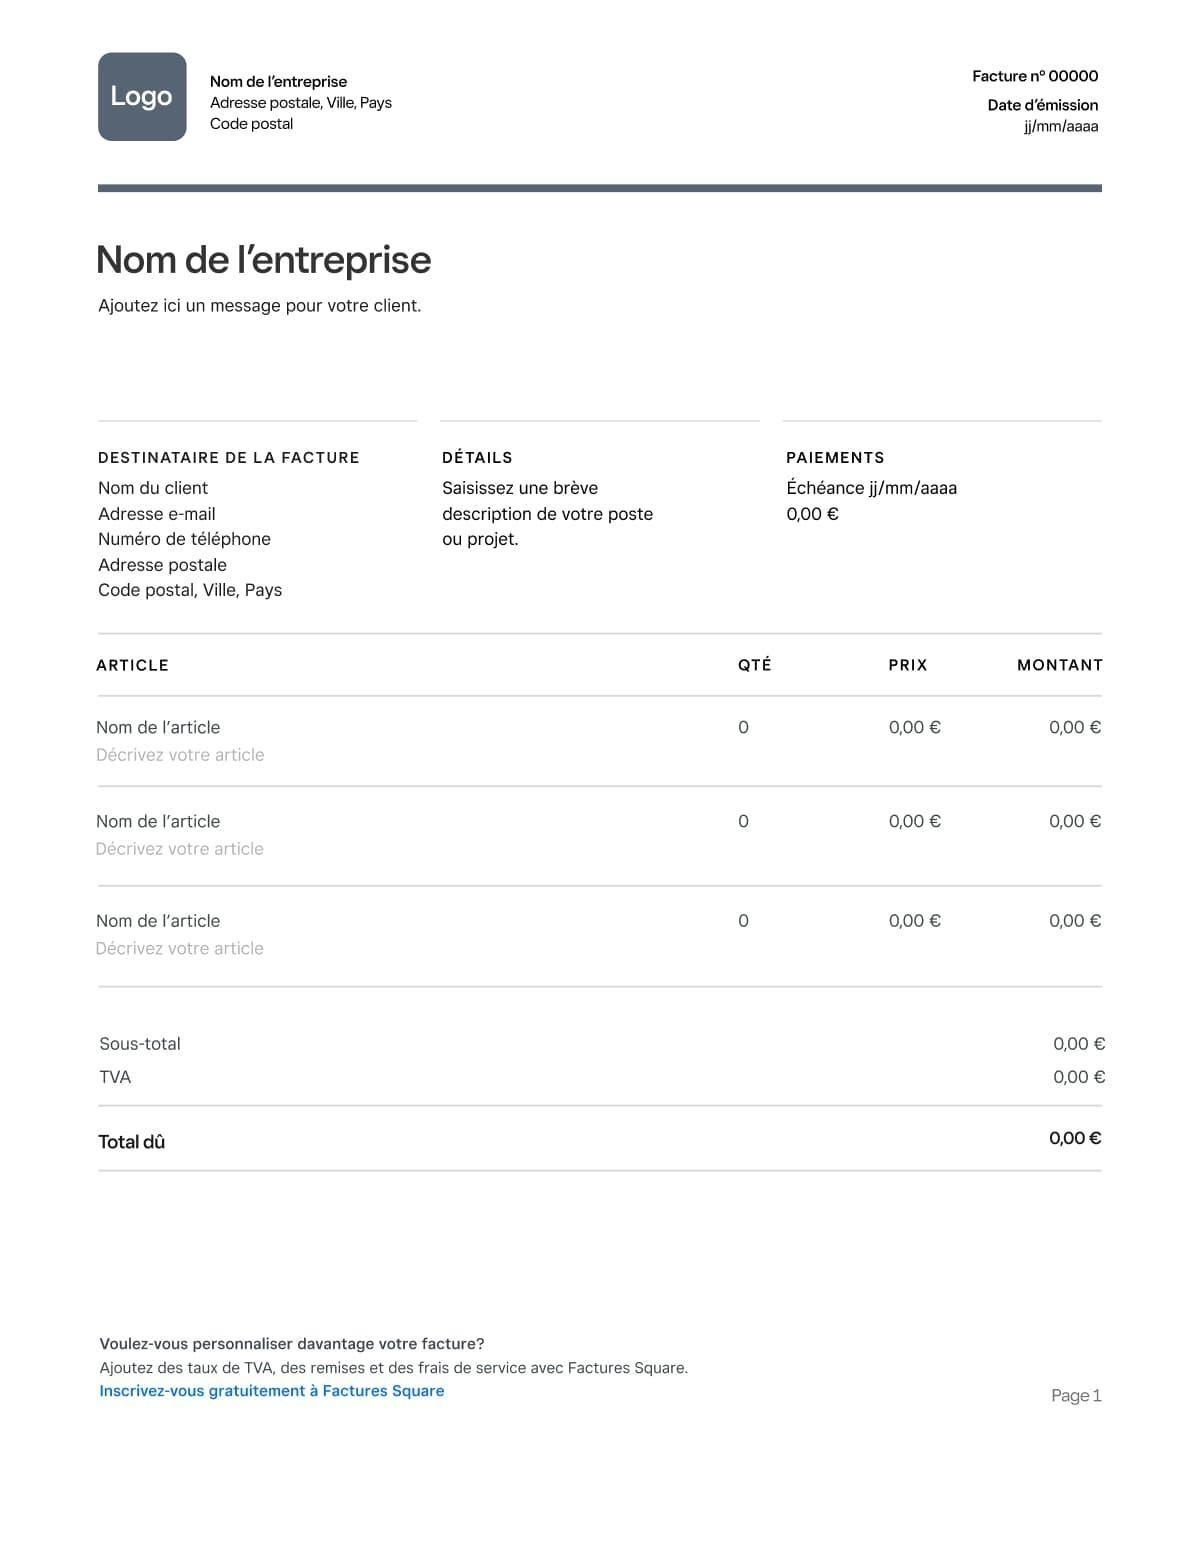ROI: (89, 630, 1128, 992), (96, 1030, 1114, 1176), (92, 434, 376, 618), (776, 447, 989, 556), (192, 61, 410, 144), (961, 52, 1128, 154)
